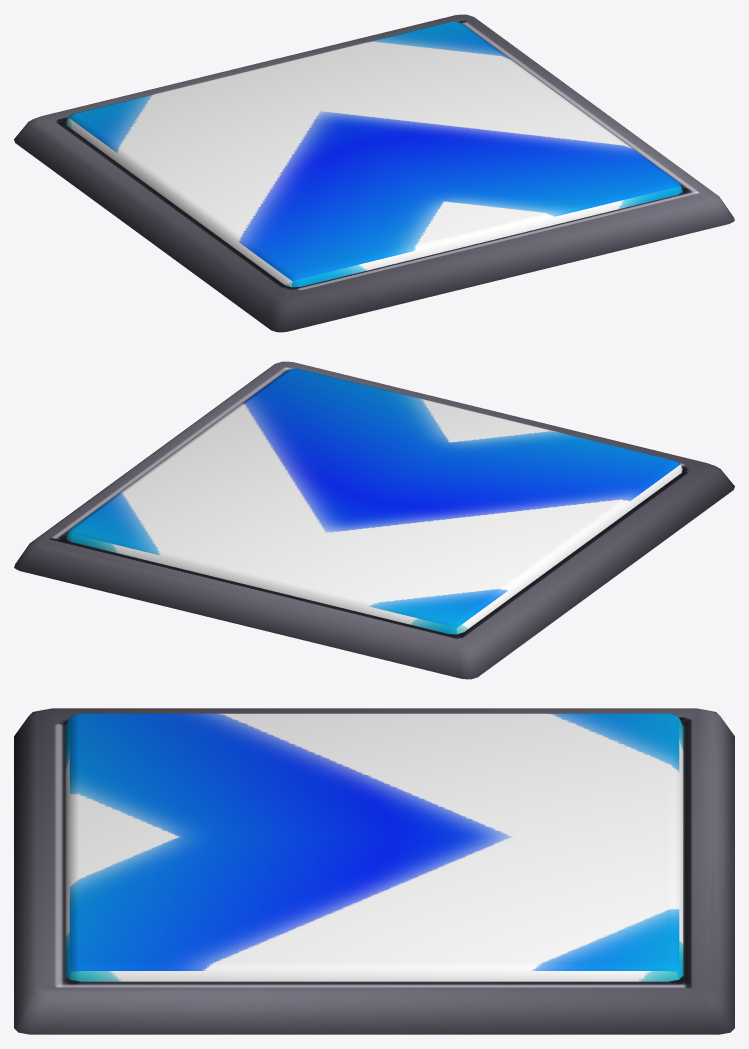
File: static.Speed-Booster-02.glb
3 renders of one model, top to bottom at view 1: azimuth 30°, elevation 25°; view 2: azimuth 150°, elevation 25°; view 3: azimuth 270°, elevation 25°, orthographic. The views are drawn at different scales.
Visible parts, largest first — view 1: static.Speed Booster 02; view 2: static.Speed Booster 02; view 3: static.Speed Booster 02.
Part boxes in pixels (<box>): static.Speed Booster 02: <box>14,14,734,332</box>; static.Speed Booster 02: <box>14,361,734,679</box>; static.Speed Booster 02: <box>14,708,734,1034</box>.
Size of the model in its own units: 1.4 by 0.0933 by 1.4.
Materials: 2 (2 with a texture image).
